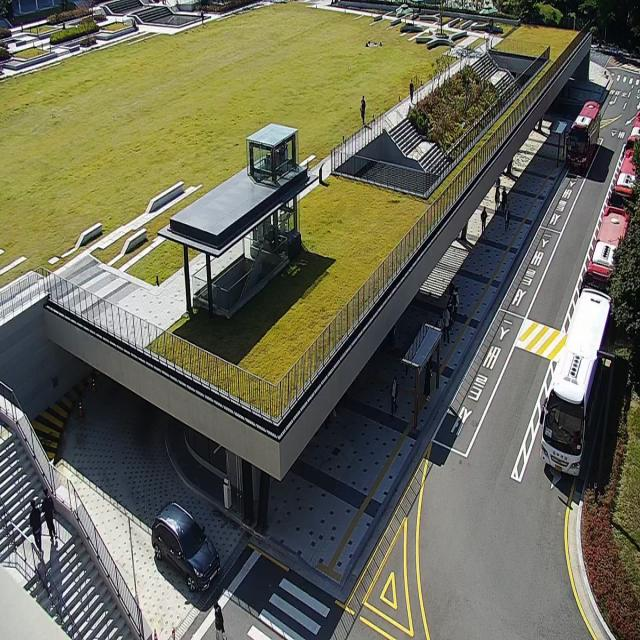queue: (415, 277, 457, 425)
